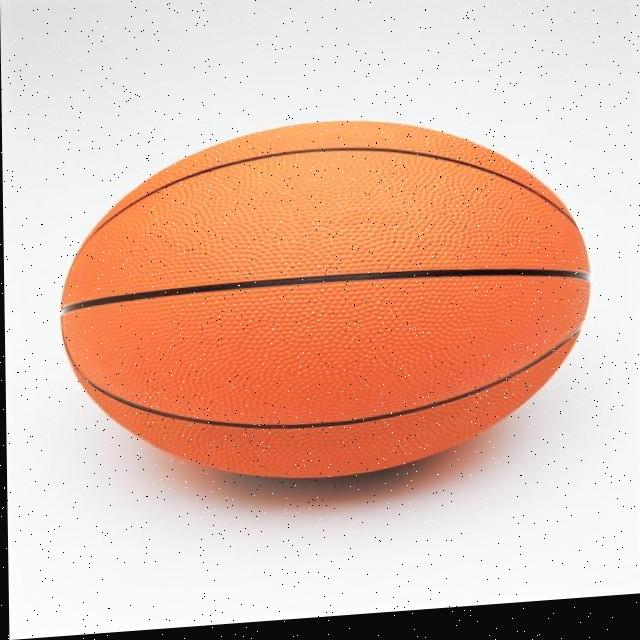Basketball: (57, 102, 593, 499)
